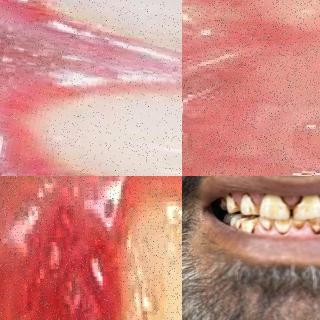Gum Swelling: (0, 0, 160, 176), (0, 176, 182, 320), (239, 0, 320, 176)
stains: (295, 195, 320, 217), (266, 194, 288, 218), (242, 191, 260, 215), (222, 193, 240, 216), (290, 219, 310, 232), (276, 220, 292, 236), (244, 222, 260, 234), (308, 218, 320, 232), (259, 218, 273, 229), (224, 214, 236, 224), (234, 218, 244, 228)
